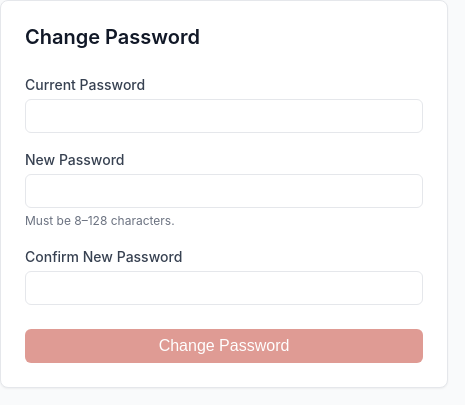
it: PasswordChangeForm › shows loading state while submitting
Type "currentPass1" into the password field with id "current-password". click: (224, 116)
box: [25, 99, 423, 133]
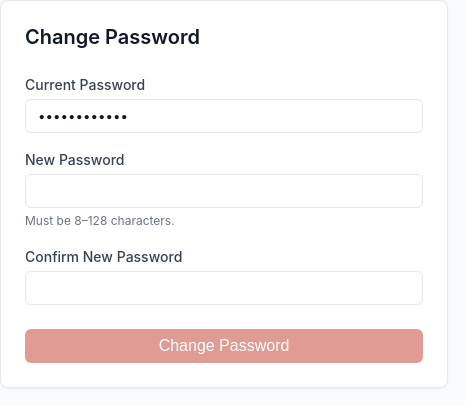
Type "newPassword123" into the password field with id "new-password". click: (224, 191)
box: [25, 174, 423, 208]
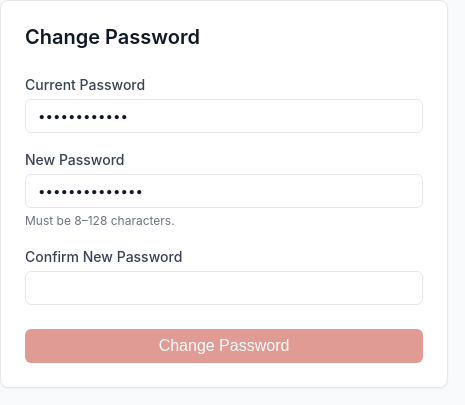
Type "newPassword123" into the password field with id "confirm-password". click: (224, 288)
box: [25, 271, 423, 305]
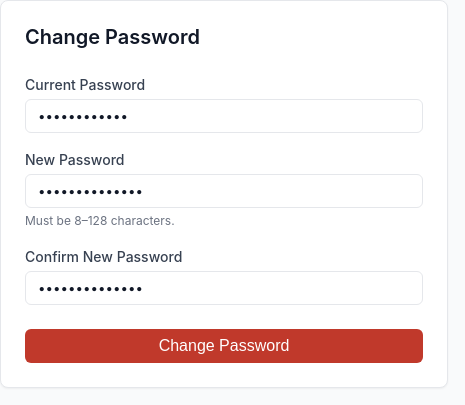
Submit the form
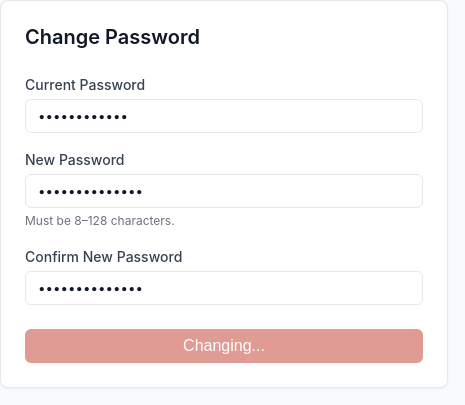
Now the submit button reads "Changing...", box [25, 329, 423, 363]
